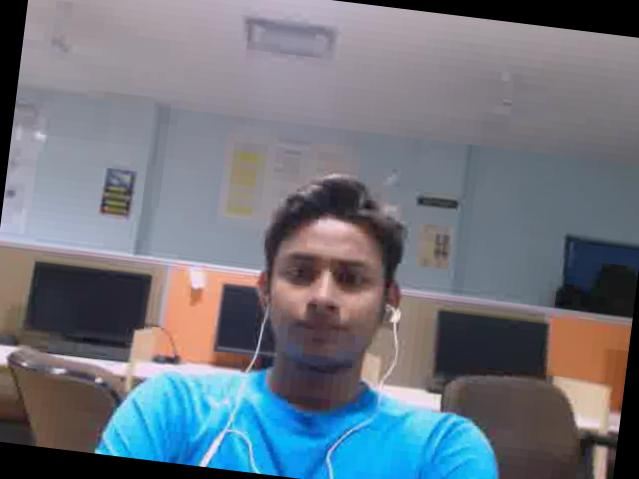bingung: (274, 219, 392, 363)
